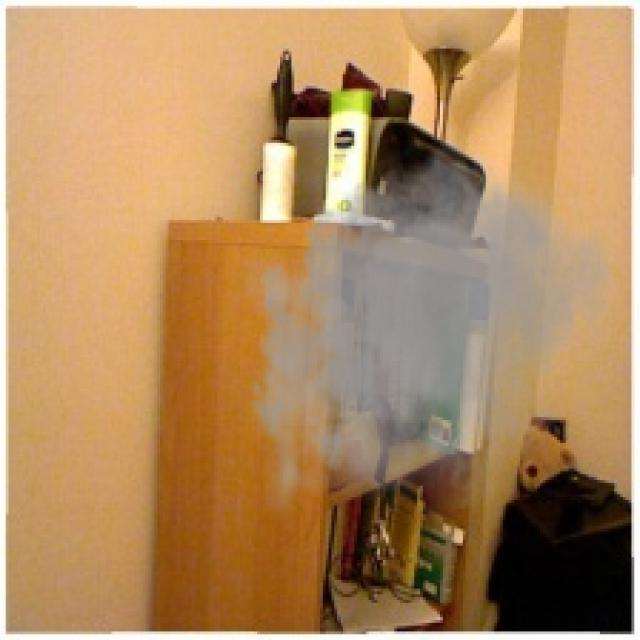smoke: (231, 132, 626, 532)
